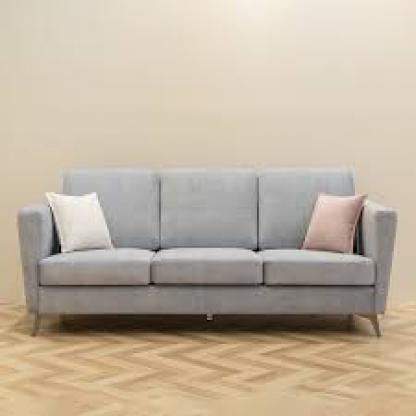sofa: (15, 163, 394, 346)
